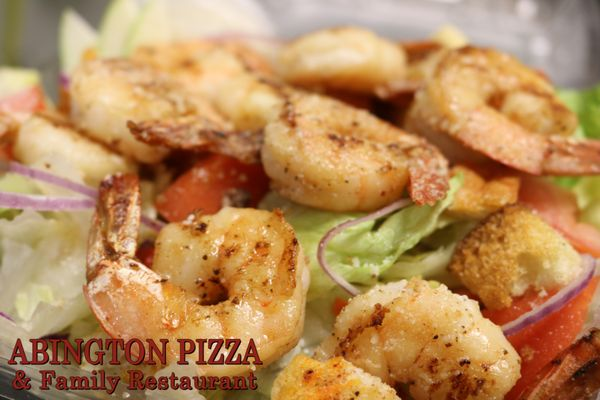salad: (270, 353, 401, 398)
